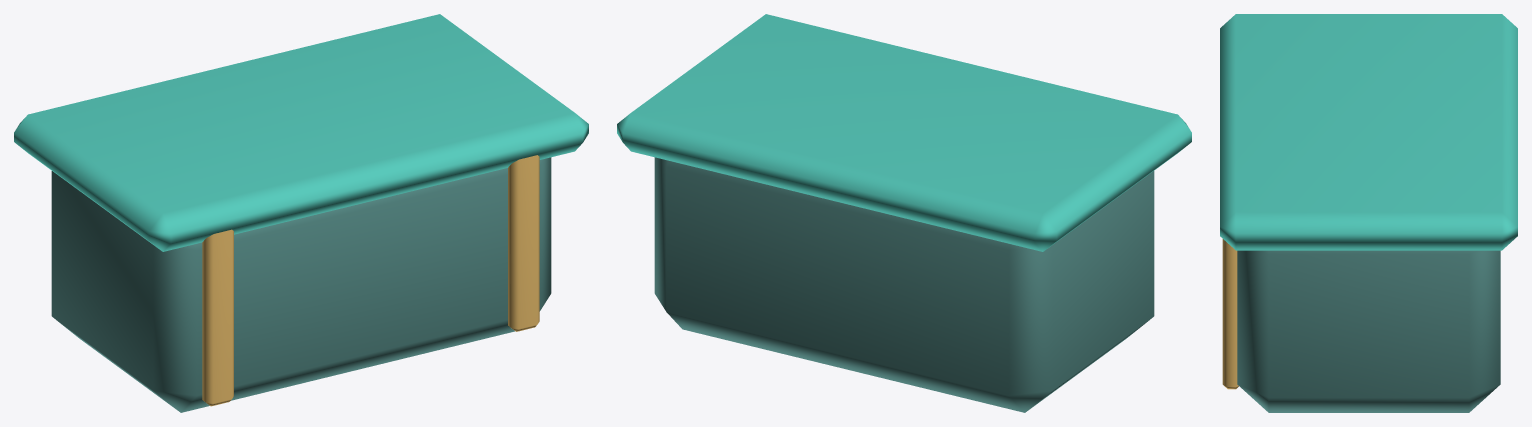
The model's file is vault.glb.
3 renders of one model, left to right at view 1: azimuth 30°, elevation 25°; view 2: azimuth 150°, elevation 25°; view 3: azimuth 270°, elevation 25°, orthographic.
Parts seen in each view (by area): view 1: Vault_top, Vault, Gold_strap; view 2: Vault, Vault_top; view 3: Vault_top, Vault, Gold_strap.
Part boxes in pixels (box(x1,y1,x2,y2)): Vault_top: box(14, 14, 588, 251); Vault: box(51, 157, 551, 412); Gold_strap: box(202, 155, 539, 406); Vault: box(654, 157, 1154, 412); Vault_top: box(617, 14, 1191, 251); Vault_top: box(1220, 14, 1517, 250); Vault: box(1237, 250, 1500, 412); Gold_strap: box(1222, 239, 1238, 389).
Bounding box in the file's own units: 1.9 × 0.91 × 1.13.
